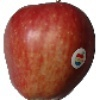apple: (4, 2, 95, 100)
